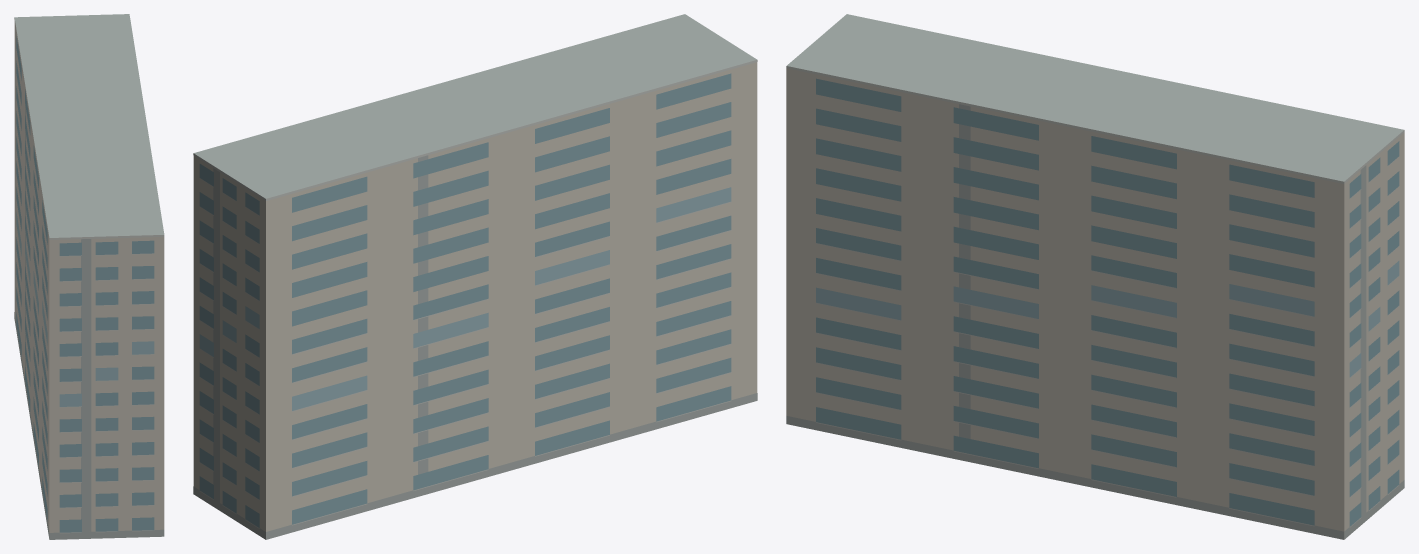
File: residential-f9ab6378-ccec-479f-9445-e9ec0b5e4d94.glb
3 renders of one model, left to right at view 1: azimuth 30°, elevation 25°; view 2: azimuth 150°, elevation 25°; view 3: azimuth 270°, elevation 25°, orthographic. The views are drawn at different scales.
Parts seen in each view (by area): view 1: residential-f9ab6378-ccec-479f-9445-e9ec0b5e4d94.tmp; view 2: residential-f9ab6378-ccec-479f-9445-e9ec0b5e4d94.tmp; view 3: residential-f9ab6378-ccec-479f-9445-e9ec0b5e4d94.tmp.
Part boxes in pixels (x1,y1,x2,y2): residential-f9ab6378-ccec-479f-9445-e9ec0b5e4d94.tmp: (14,14,164,539); residential-f9ab6378-ccec-479f-9445-e9ec0b5e4d94.tmp: (193,14,757,539); residential-f9ab6378-ccec-479f-9445-e9ec0b5e4d94.tmp: (786,14,1404,539).
Bounding box in the file's own units: 36.76 × 36.6 × 57.24.
